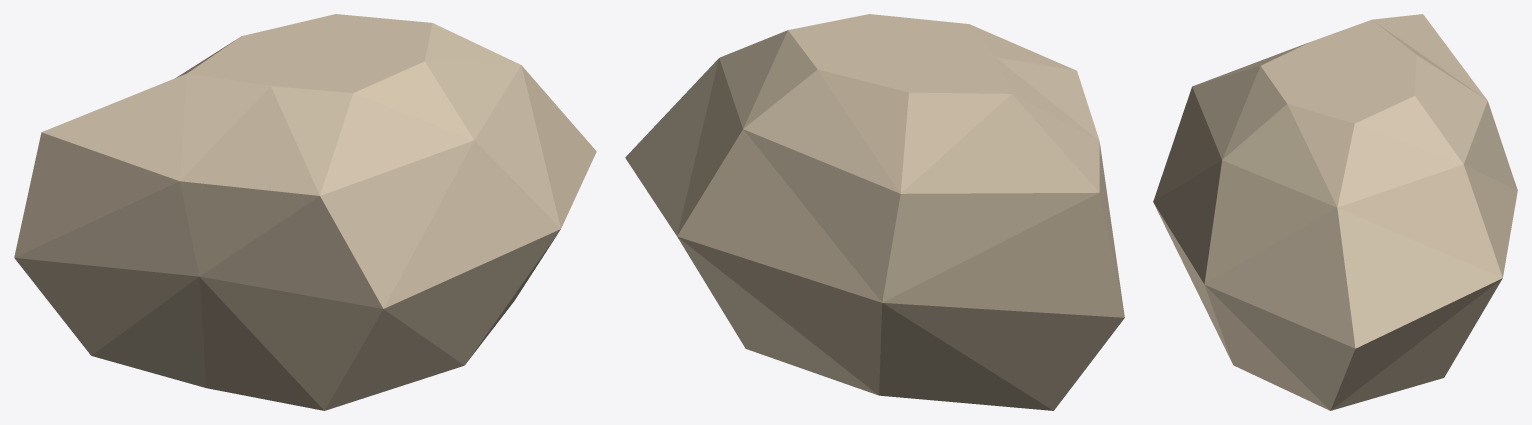
The model's file is rock_M_b.fbx.
The picture shows the model from 3 angles, left to right: view 1: azimuth 30°, elevation 25°; view 2: azimuth 150°, elevation 25°; view 3: azimuth 270°, elevation 25°; orthographic projection. The views are drawn at different scales.
Parts seen in each view (by area): view 1: rock_M_b; view 2: rock_M_b; view 3: rock_M_b.
Part boxes in pixels (box(x1,y1,x2,y2)): rock_M_b: box(14, 14, 596, 410); rock_M_b: box(625, 14, 1124, 410); rock_M_b: box(1153, 14, 1517, 410).
Size of the model in its own units: 2.8 by 1.4 by 1.8.
